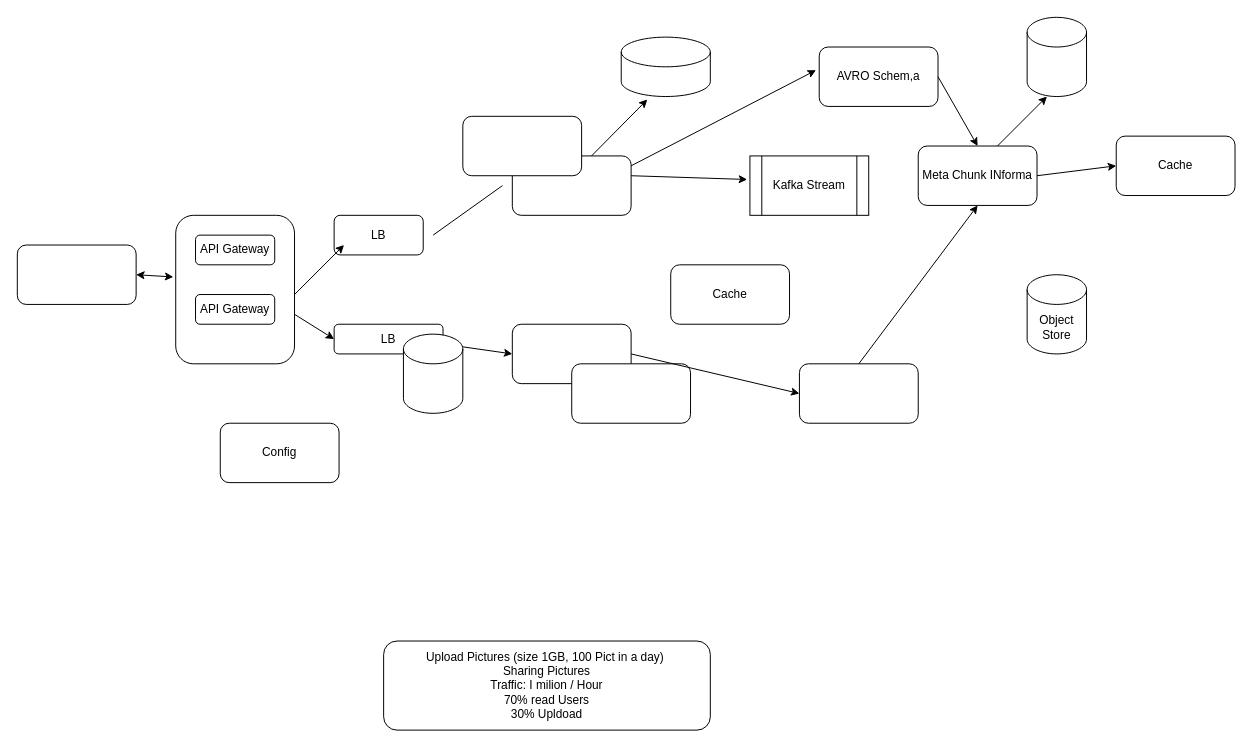
The diagram is 1252 pixels wide and 747 high, and some of its shapes have lost their labels. The centre of each missing label's shape, as x and y in pixels:
"Agrregator" belongs at pixel 858 393.
"LoadBalancer" belongs at pixel 76 274.
"Read" belongs at pixel 571 353.
"Upload" belongs at pixel 571 185.
